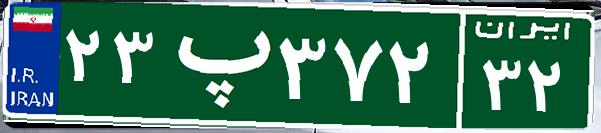2: (385, 28, 445, 110), (57, 26, 110, 107), (525, 38, 570, 115)
3: (273, 28, 330, 110), (475, 38, 525, 113), (110, 28, 158, 105)
7: (330, 28, 385, 110)
پ: (158, 15, 273, 115)
